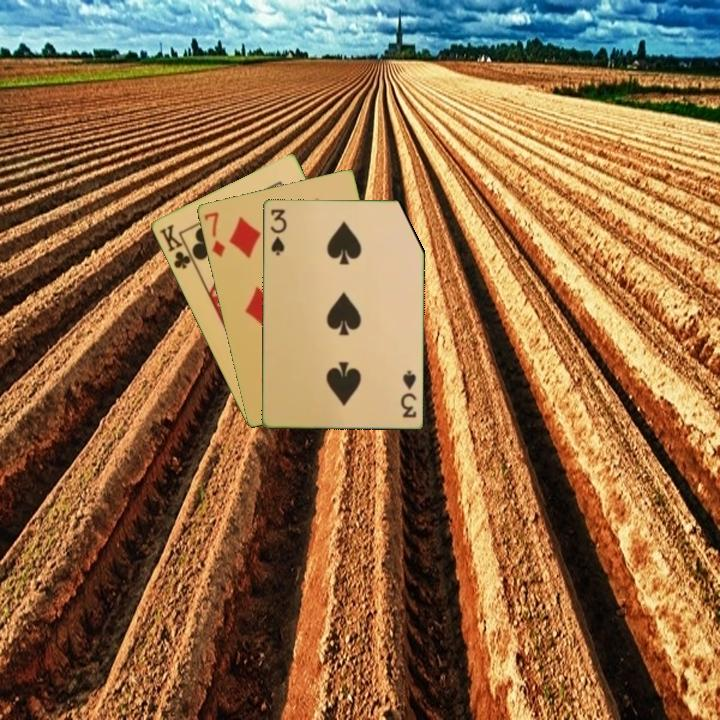3s: (397, 367, 419, 420), (267, 205, 288, 258)
7d: (200, 208, 228, 260)
Kc: (155, 220, 197, 272)
